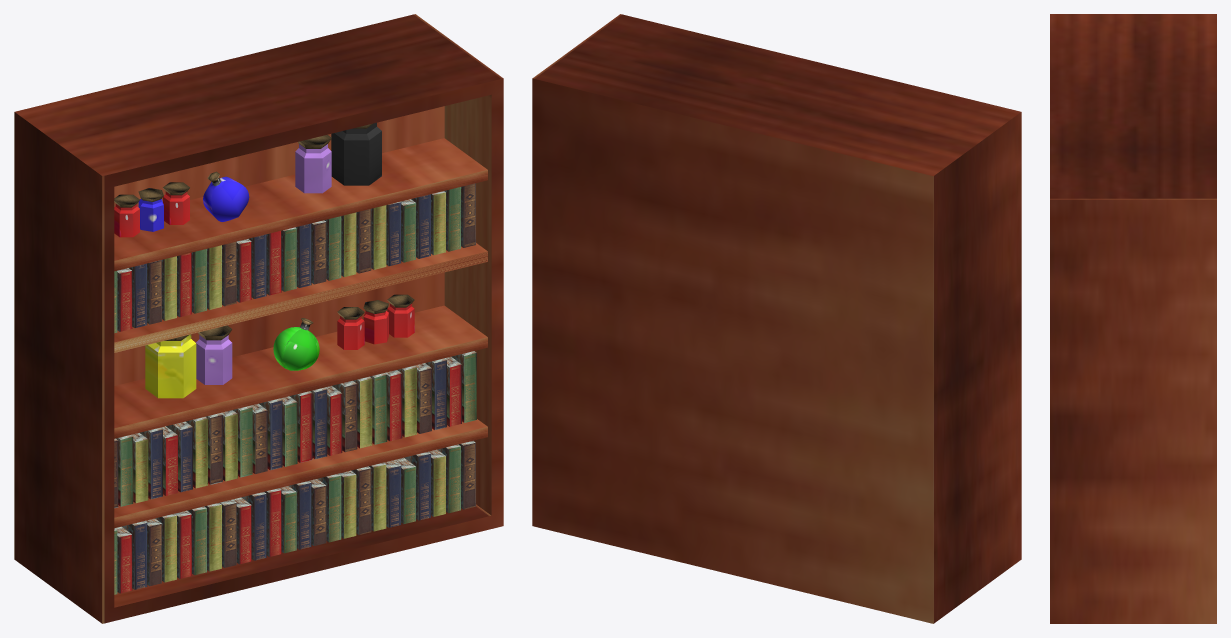
File: shelves.fbx
3 renders of one model, left to right at view 1: azimuth 30°, elevation 25°; view 2: azimuth 150°, elevation 25°; view 3: azimuth 270°, elevation 25°, orthographic. The views are drawn at different scales.
Parts seen in each view (by area): view 1: Cube, Cube.006, Cube.007, Cube.005, Cube.001, Cube.003, Cube.004, Cube.002, Cylinder, Cylinder.005, Cylinder.001, Cylinder.006 (+8 smaller); view 2: Cube; view 3: Cube.
Part boxes in pixels (x1=…): Cube: x1=14, y1=14, x2=503, y2=623; Cube.006: x1=114, y1=351, x2=476, y2=508; Cube.007: x1=114, y1=441, x2=475, y2=594; Cube.005: x1=114, y1=183, x2=475, y2=333; Cube.001: x1=114, y1=138, x2=487, y2=271; Cube.003: x1=114, y1=305, x2=487, y2=438; Cube.004: x1=114, y1=419, x2=487, y2=528; Cube.002: x1=114, y1=243, x2=487, y2=352; Cylinder: x1=145, y1=334, x2=196, y2=398; Cylinder.005: x1=331, y1=122, x2=381, y2=185; Cylinder.001: x1=196, y1=325, x2=232, y2=384; Cylinder.006: x1=295, y1=134, x2=331, y2=193; Cube: x1=532, y1=14, x2=1021, y2=623; Cube: x1=1050, y1=14, x2=1216, y2=623.
Size of the model in its own units: 526 by 561 by 200.
3 materials, 3 textured.
